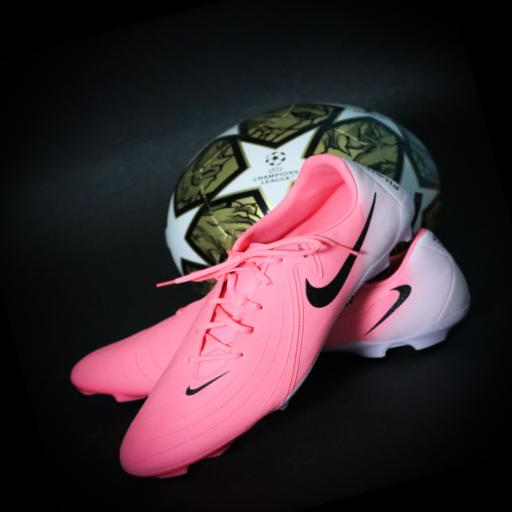shoe: (121, 155, 414, 477), (324, 229, 470, 357)
